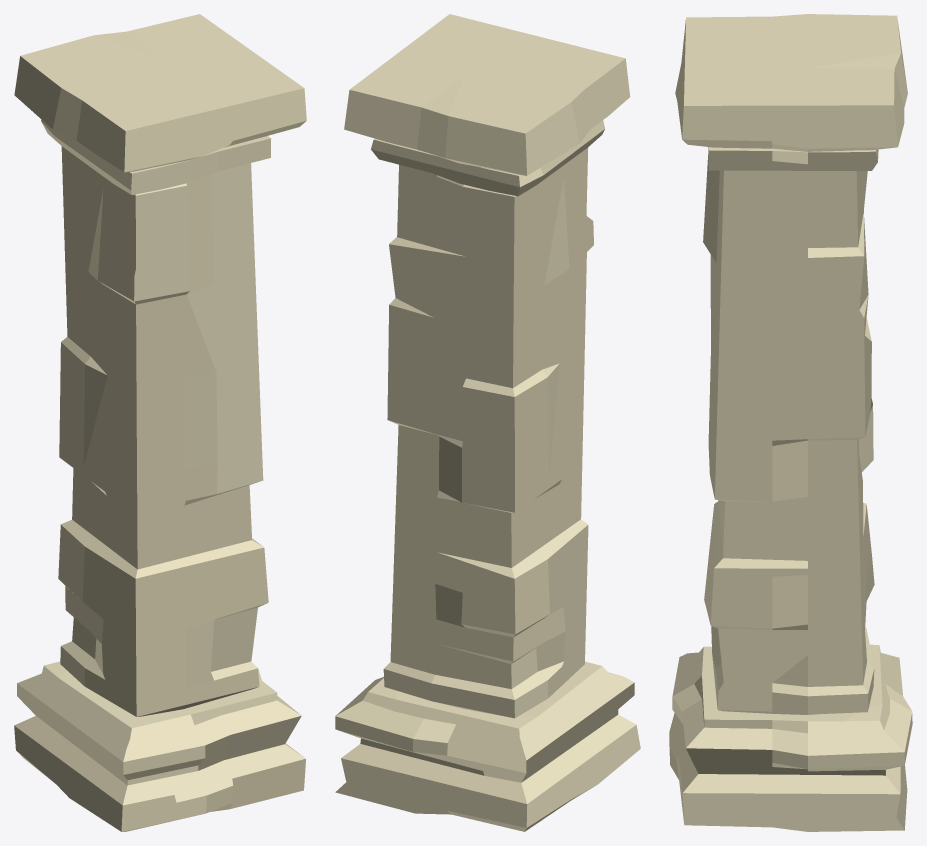
The model's file is Pillar.fbx.
3 views of the same model, side by side, from view 1: azimuth 30°, elevation 25°; view 2: azimuth 150°, elevation 25°; view 3: azimuth 270°, elevation 25° (orthographic). The views are drawn at different scales.
Visible parts, largest first — view 1: Pillar; view 2: Pillar; view 3: Pillar.
Part boxes in pixels (x1,y1,x2,y2): Pillar: [14, 14, 306, 831]; Pillar: [335, 14, 640, 831]; Pillar: [669, 14, 912, 831].
Bounding box in the file's own units: 241 × 790 × 241.
